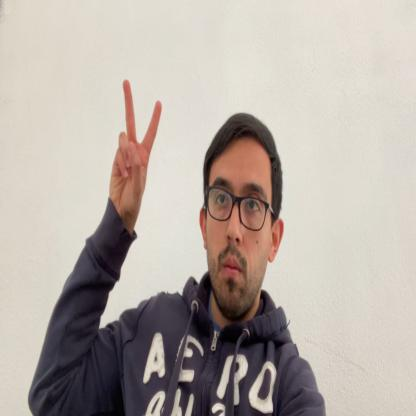V: (110, 77, 162, 222)
